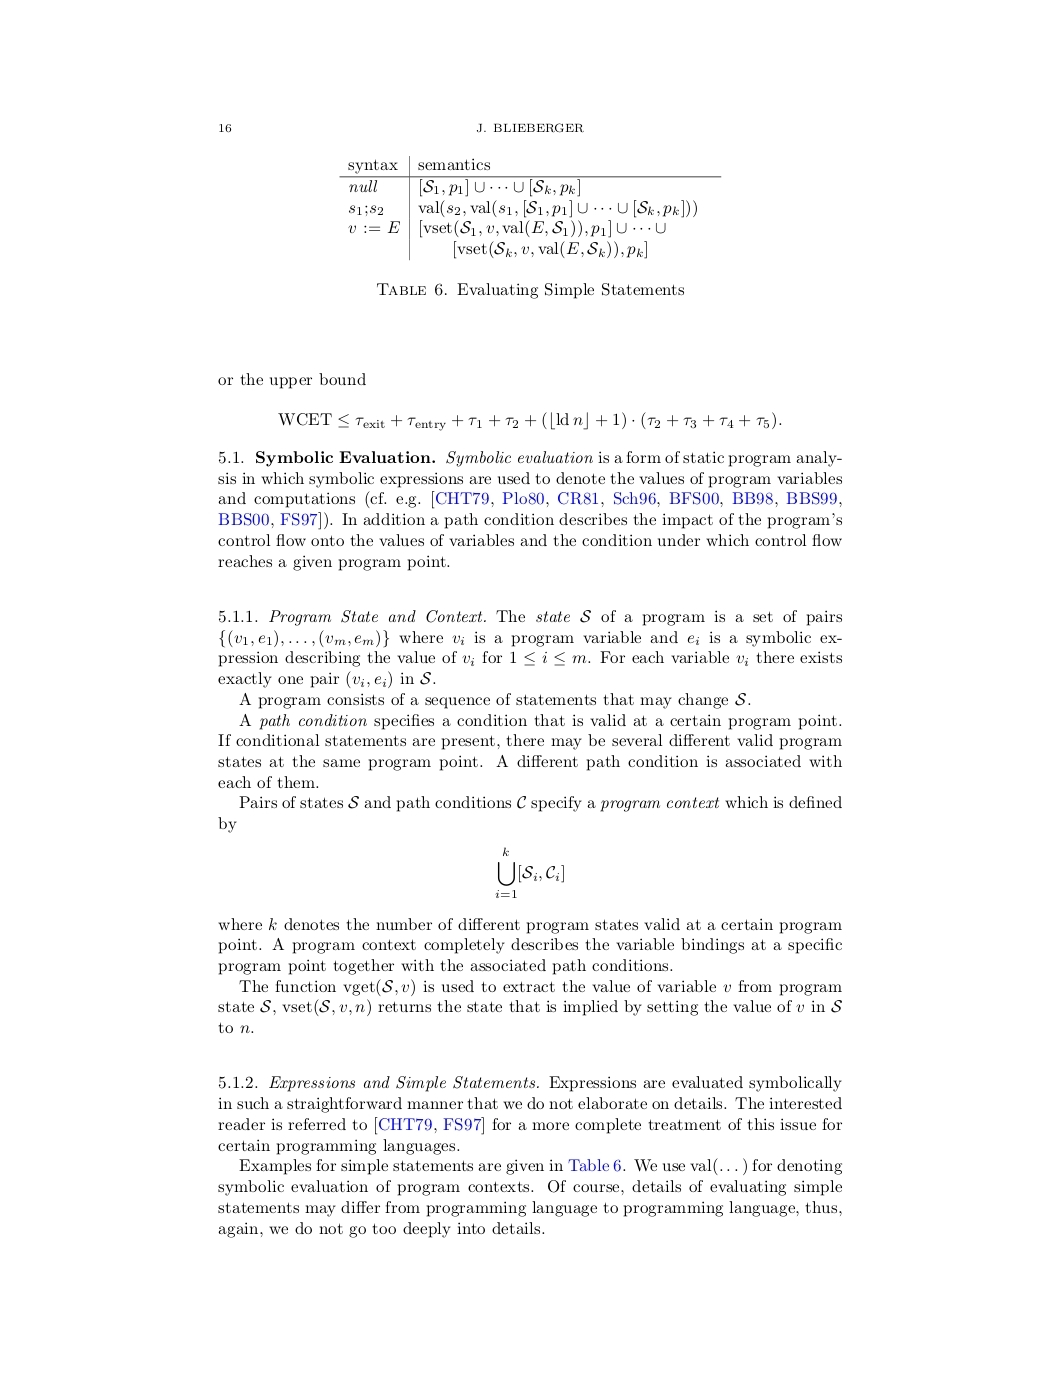Table: (339, 155, 721, 261)
formula: (278, 411, 781, 431), (495, 847, 563, 897)
